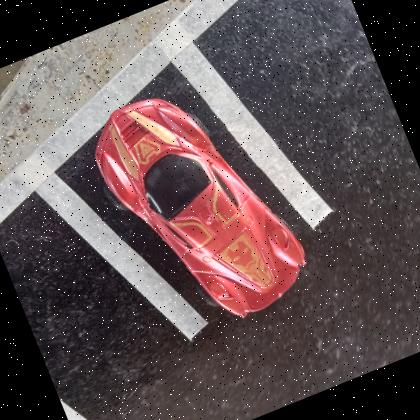Car: (94, 96, 307, 316)
